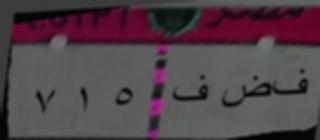1: (76, 83, 92, 117)
5: (112, 82, 138, 114)
7: (31, 83, 60, 119)
daad: (217, 71, 273, 116)
faa: (274, 60, 312, 104), (170, 73, 212, 109)
